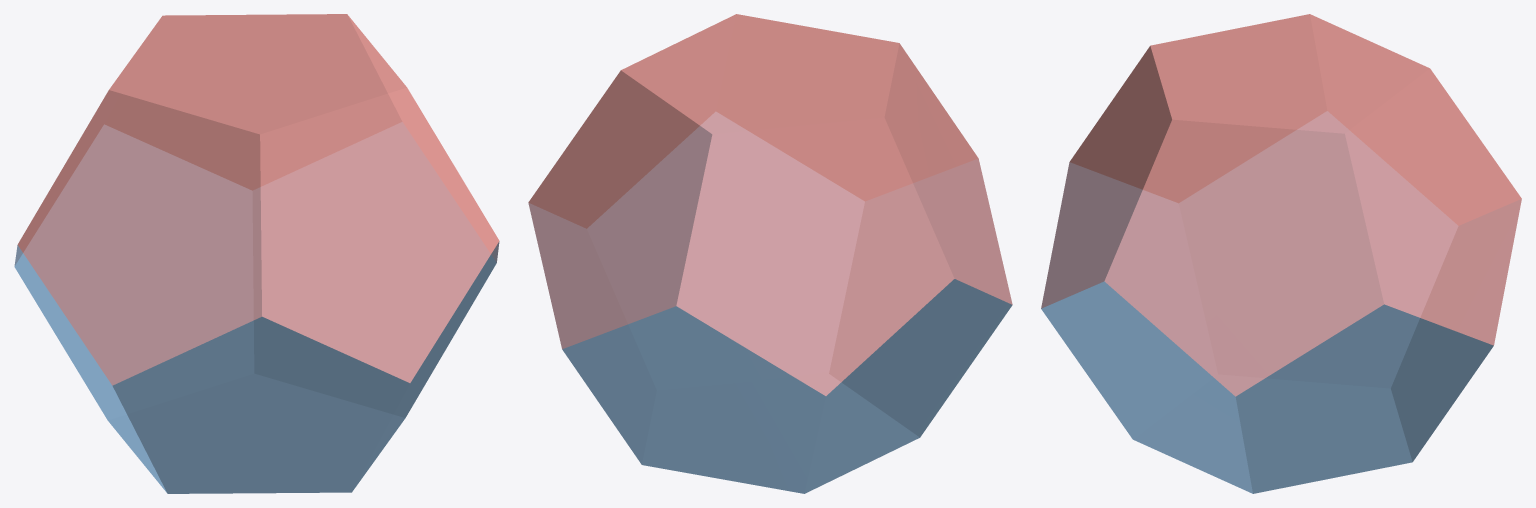
The picture shows the model from 3 angles, left to right: view 1: azimuth 30°, elevation 25°; view 2: azimuth 150°, elevation 25°; view 3: azimuth 270°, elevation 25°; orthographic projection. The views are drawn at different scales.
Bounding box in the file's own units: 9.55 × 7.86 × 9.64.
